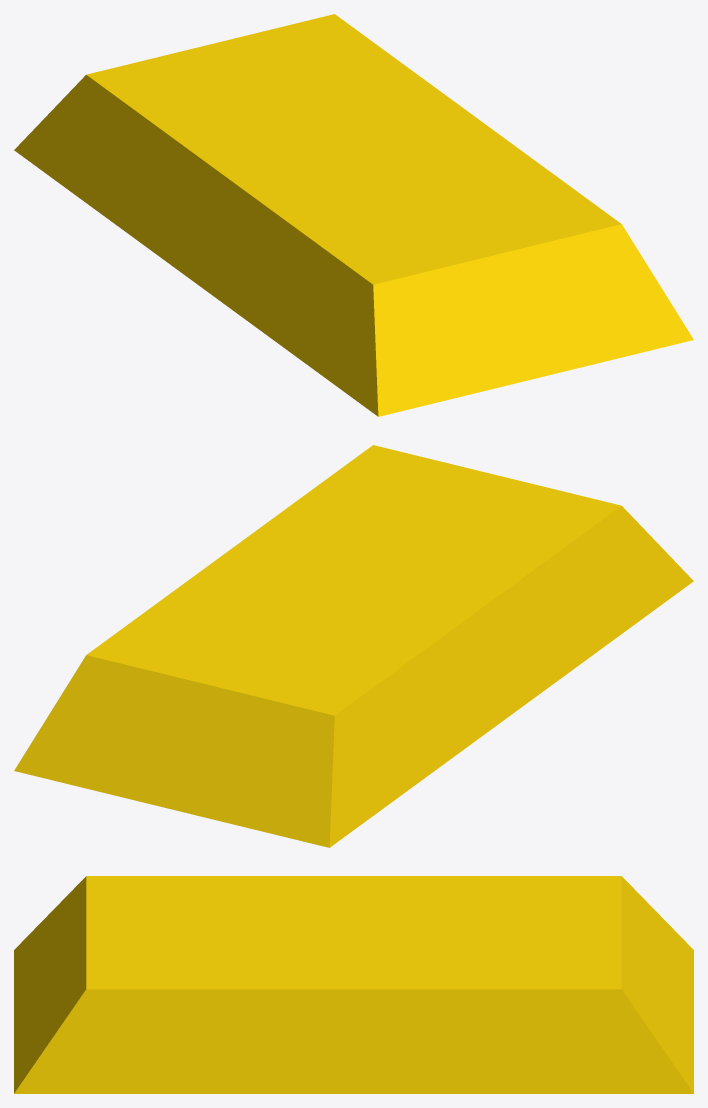
Rendered from GoldBar.fbx.
The picture shows the model from 3 angles, top to bottom: view 1: azimuth 30°, elevation 25°; view 2: azimuth 150°, elevation 25°; view 3: azimuth 270°, elevation 25°; orthographic projection. The views are drawn at different scales.
Parts seen in each view (by area): view 1: Plane; view 2: Plane; view 3: Plane.
Boxes of the visible parts, x1,y1,x2,y2 form: Plane: (14, 14, 693, 416); Plane: (14, 445, 693, 847); Plane: (14, 876, 693, 1093).
Bounding box in the file's own units: 200 × 57.97 × 400.
